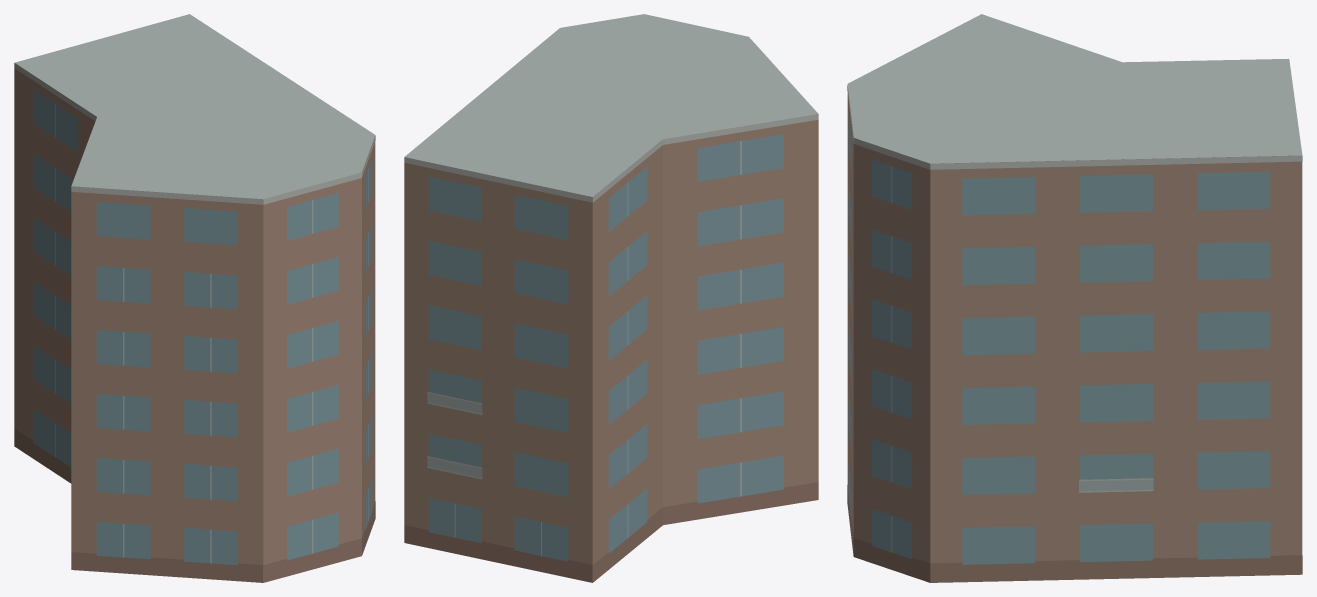
The model's file is survey-upis-32635743.glb.
3 views of the same model, side by side, from view 1: azimuth 30°, elevation 25°; view 2: azimuth 150°, elevation 25°; view 3: azimuth 270°, elevation 25° (orthographic). The views are drawn at different scales.
Parts seen in each view (by area): view 1: survey-upis-32635743.tmp; view 2: survey-upis-32635743.tmp; view 3: survey-upis-32635743.tmp.
Part boxes in pixels (x1,y1,x2,y2): survey-upis-32635743.tmp: (14,14,375,582); survey-upis-32635743.tmp: (404,14,818,582); survey-upis-32635743.tmp: (847,14,1302,582).
Size of the model in its own units: 12.8 by 16.7 by 16.44.
